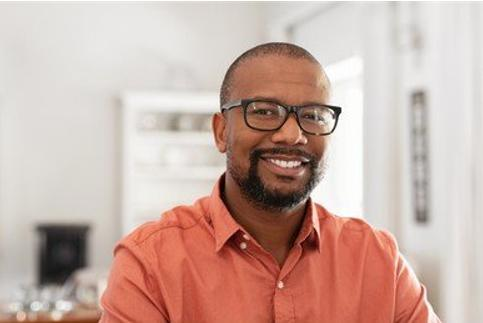Sober: (238, 72, 329, 191)
